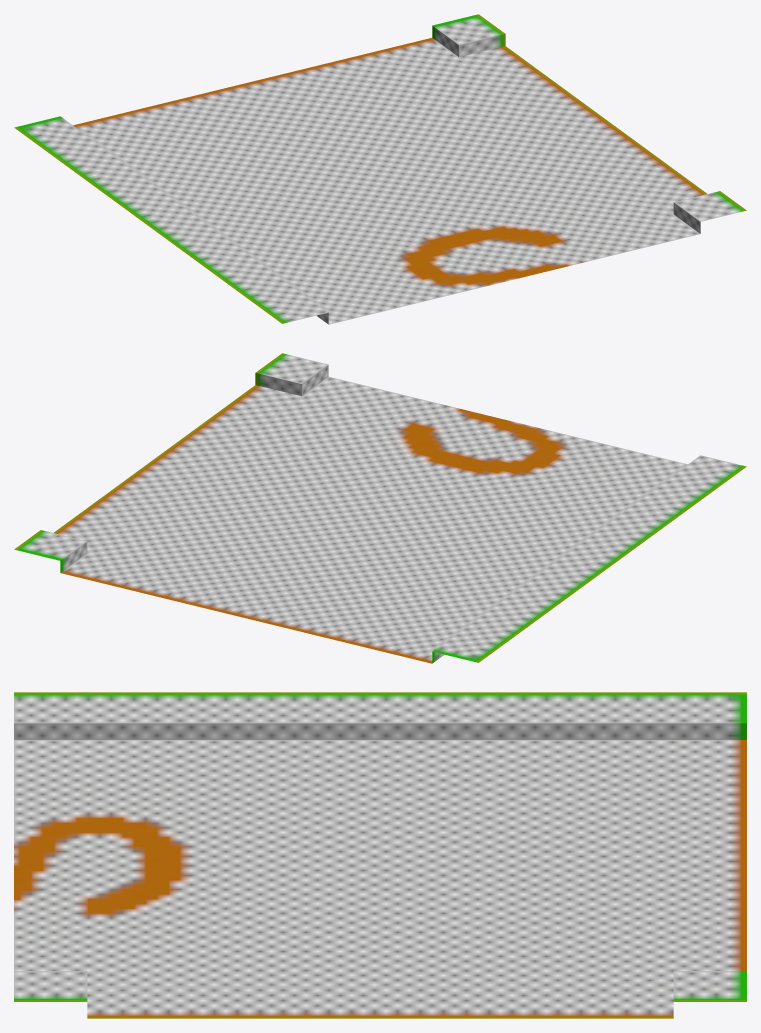
Rendered from Street_3.fbx.
The picture shows the model from 3 angles, top to bottom: view 1: azimuth 30°, elevation 25°; view 2: azimuth 150°, elevation 25°; view 3: azimuth 270°, elevation 25°; orthographic projection. The views are drawn at different scales.
Parts seen in each view (by area): view 1: Street_3; view 2: Street_3; view 3: Street_3.
Part boxes in pixels (left/top/right/bottom): Street_3: left=14, top=14, right=746, bottom=324; Street_3: left=14, top=353, right=746, bottom=663; Street_3: left=14, top=692, right=746, bottom=1018.
Size of the model in its own units: 1000 by 25 by 1000.
